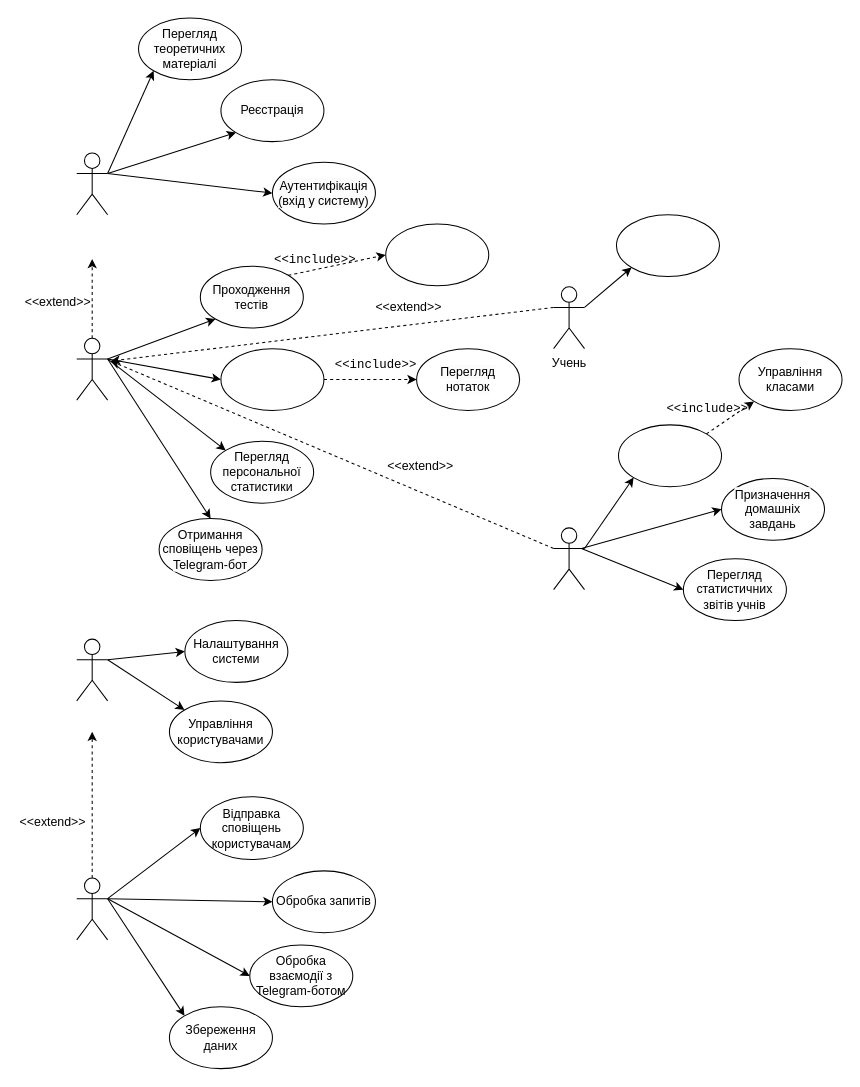
This 860x1087 diagram has some shape labels left out. The shapes that lost their labels are listed below. From the top down, each one's centre as x and y in pixels, then its label:
the point at 92,183: Незареєстрований користувач
the point at 437,254: Перегляд результатів тестів
the point at 667,245: Перегляд призначених домашніх завдань
the point at 92,368: Зареєстрований користувач
the point at 272,379: Збереження нотаток
the point at 669,455: Створення класів
the point at 569,558: Вчитель
the point at 92,669: Адміністратор
the point at 92,908: Telegram-бот
